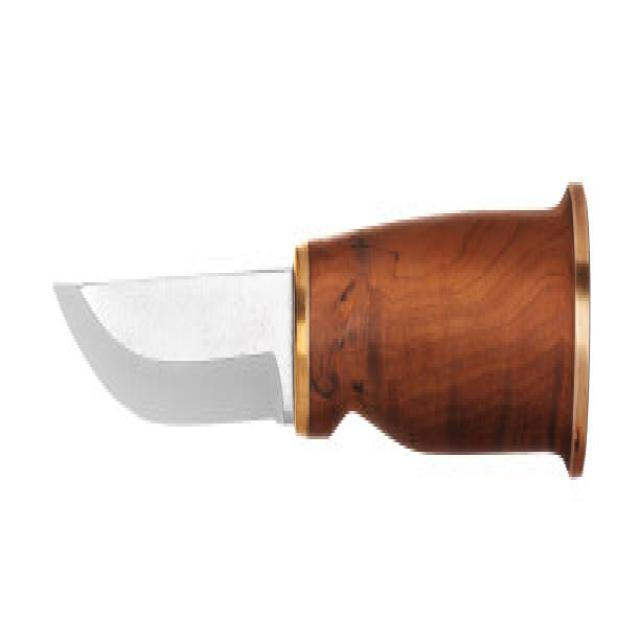knife: (46, 164, 593, 499)
